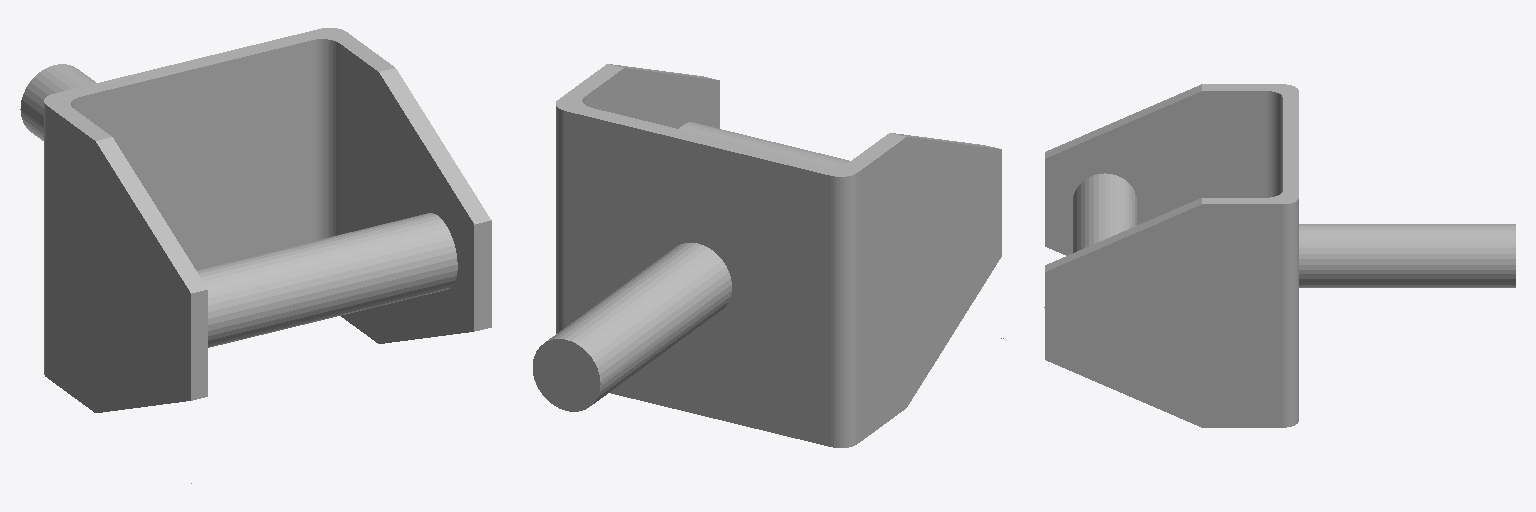
The robot description file, URDF, robot "test_rover_simplified_assembly_V2":
<?xml version="1.0" encoding="utf-8"?>
<!-- This URDF was automatically created by SolidWorks to URDF Exporter! Originally created by [author] ([email redacted]) 
     Commit Version: 1.6.0-1-g15f4949  Build Version: 1.6.7594.29634
     For more information, please see http://wiki.ros.org/sw_urdf_exporter -->
<robot
  name="test_rover_simplified_assembly_V2">
  <link
    name="base_link">
    <inertial>
      <origin
        xyz="-0.0159207082933907 0.000565056852479075 0.0528175477548687"
        rpy="0 0 0" />
      <mass
        value="2.05900575740713" />
      <inertia
        ixx="0.00837212475342076"
        ixy="-3.33596521092134E-07"
        ixz="-4.86633641403138E-06"
        iyy="0.0108216841690878"
        iyz="-7.9312141258394E-11"
        izz="0.0186528531491666" />
    </inertial>
    <visual>
      <origin
        xyz="0 0 0"
        rpy="0 0 0" />
      <geometry>
        <mesh
          filename="package://test_rover_simplified_assembly_V2/meshes/base_link.STL" />
      </geometry>
      <material
        name="">
        <color
          rgba="0.752941176470588 0.752941176470588 0.752941176470588 1" />
      </material>
    </visual>
    <collision>
      <origin
        xyz="0 0 0"
        rpy="0 0 0" />
      <geometry>
        <mesh
          filename="package://test_rover_simplified_assembly_V2/meshes/base_link.STL" />
      </geometry>
    </collision>
  </link>
  <link
    name="steer_body_1">
    <inertial>
      <origin
        xyz="0 0 -0.0446500373346819"
        rpy="0 0 0" />
      <mass
        value="0.321830867642157" />
      <inertia
        ixx="0.000403119230494531"
        ixy="3.04070508856324E-20"
        ixz="1.97802556303847E-20"
        iyy="0.000447396150005123"
        iyz="-1.61096664292117E-20"
        izz="0.000288586777617234" />
    </inertial>
    <visual>
      <origin
        xyz="0 0 0"
        rpy="0 0 0" />
      <geometry>
        <mesh
          filename="package://test_rover_simplified_assembly_V2/meshes/wheel_support.STL" />
      </geometry>
      <material
        name="">
        <color
          rgba="0.752941176470588 0.752941176470588 0.752941176470588 1" />
      </material>
    </visual>
    <collision>
      <origin
        xyz="0 0 0"
        rpy="0 0 0" />
      <geometry>
        <mesh
          filename="package://test_rover_simplified_assembly_V2/meshes/wheel_support.STL" />
      </geometry>
    </collision>
  </link>
  <joint
    name="steer_joint_1"
    type="continuous">
    <origin
      xyz="0.12165 0 0.013"
      rpy="0 0 0" />
    <parent
      link="base_link" />
    <child
      link="steer_body_1" />
    <axis
      xyz="0 0 -1" />
  </joint>
  <link
    name="wheel_1">
    <inertial>
      <origin
        xyz="0 -6.93889390390723E-18 0"
        rpy="0 0 0" />
      <mass
        value="0.197946274165105" />
      <inertia
        ixx="0.000265311350188973"
        ixy="-2.32776547352845E-20"
        ixz="1.95129106061818E-21"
        iyy="0.000143297926614517"
        iyz="8.470329472543E-21"
        izz="0.000143297926614517" />
    </inertial>
    <visual>
      <origin
        xyz="0 0 0"
        rpy="0 0 0" />
      <geometry>
        <mesh
          filename="package://test_rover_simplified_assembly_V2/meshes/wheel_1.STL" />
      </geometry>
      <material
        name="">
        <color
          rgba="0.792156862745098 0.819607843137255 0.933333333333333 1" />
      </material>
    </visual>
    <collision>
      <origin
        xyz="0 0 0"
        rpy="0 0 0" />
      <geometry>
        <mesh
          filename="package://test_rover_simplified_assembly_V2/meshes/wheel_1.STL" />
      </geometry>
    </collision>
  </link>
  <joint
    name="wheel_joint_1"
    type="continuous">
    <origin
      xyz="0 0 -0.06"
      rpy="1.6642 0 -1.5708" />
    <parent
      link="steer_body_1" />
    <child
      link="wheel_1" />
    <axis
      xyz="1 0 0" />
  </joint>
</robot>

--- Render facts (derived) ---
The picture shows the robot from 3 angles, left to right: view 1: azimuth 30°, elevation 25°; view 2: azimuth 150°, elevation 25°; view 3: azimuth 270°, elevation 25°; orthographic projection.
Robot: test_rover_simplified_assembly_V2 — 3 links, 2 joints (2 continuous); root link base_link; default pose: every joint at zero.
Links seen in each view (by area): view 1: steer_body_1; view 2: steer_body_1; view 3: steer_body_1.
Link boxes in pixels (box(x1,y1,x2,y2)): steer_body_1: box(20, 28, 491, 412); steer_body_1: box(533, 64, 1001, 447); steer_body_1: box(1045, 84, 1515, 427).
Size in the robot's own frame: 88.32 by 146 by 76.31 metres.
Meshes: 3 distinct files referenced, 3 mesh visuals loaded (3 binary STL).